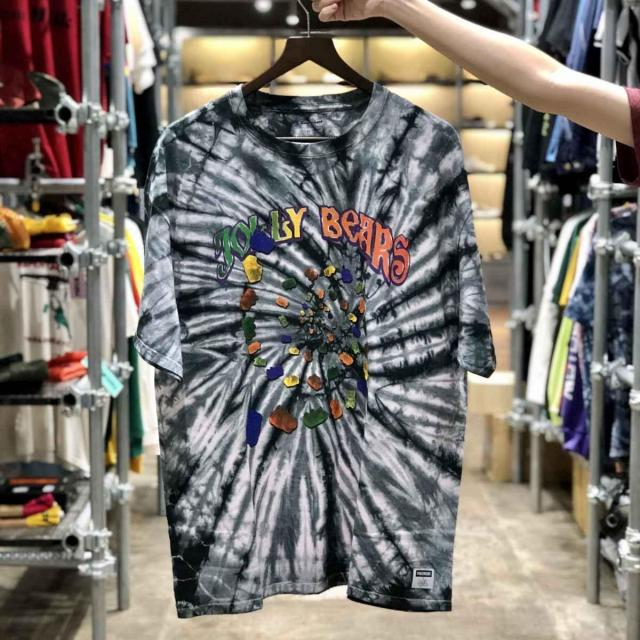Tshirt: (144, 95, 493, 598)
